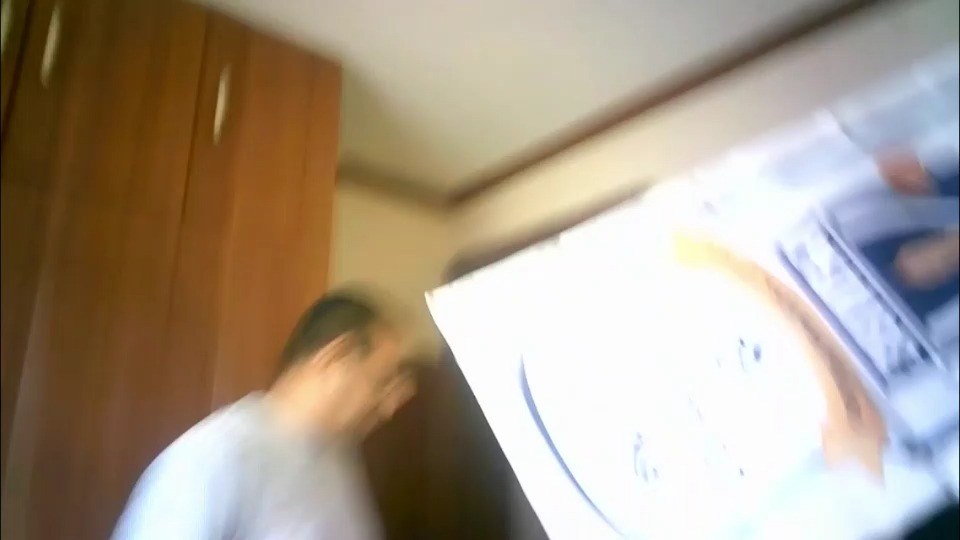maize_flour_green_label: (422, 50, 956, 540)
